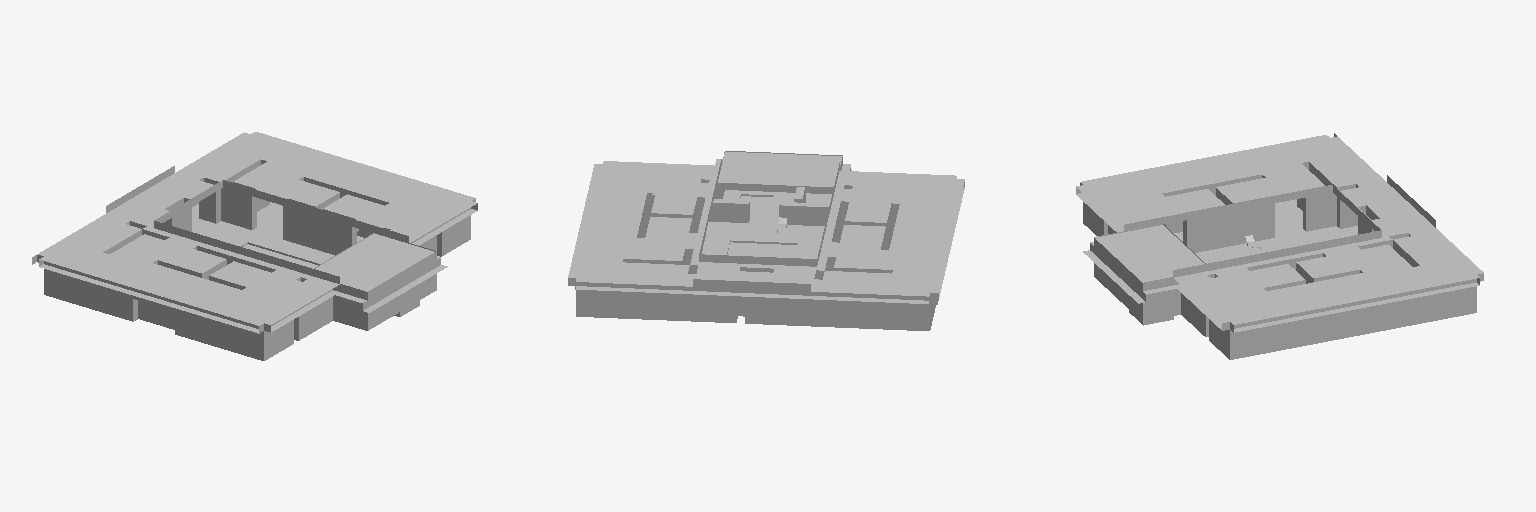
File: pool.obj
3 views of the same model, side by side, from view 1: azimuth 30°, elevation 25°; view 2: azimuth 150°, elevation 25°; view 3: azimuth 270°, elevation 25° (orthographic).
Parts seen in each view (by area): view 1: Pool_Day.near.; view 2: Pool_Day.near.; view 3: Pool_Day.near..
Boxes of the visible parts, <box> form: Pool_Day.near.: <box>32,132,477,360</box>; Pool_Day.near.: <box>568,151,964,330</box>; Pool_Day.near.: <box>1076,133,1483,359</box>.
Bounding box in the file's own units: 109 × 18.21 × 97.73.